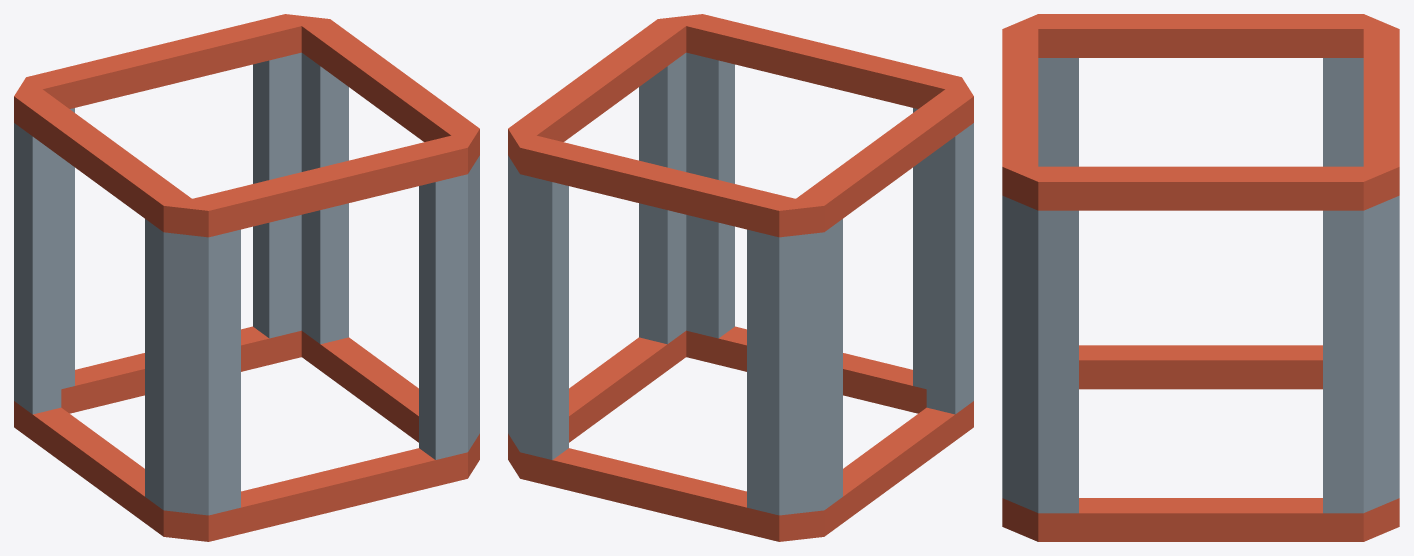
Rendered from metalStructure.fbx.
3 renders of one model, left to right at view 1: azimuth 30°, elevation 25°; view 2: azimuth 150°, elevation 25°; view 3: azimuth 270°, elevation 25°, orthographic. The views are drawn at different scales.
Parts seen in each view (by area): view 1: metalStructure; view 2: metalStructure; view 3: metalStructure.
Boxes of the visible parts, x1,y1,x2,y2 form: metalStructure: (14,14,479,541); metalStructure: (508,14,973,541); metalStructure: (1002,14,1399,541).
Bounding box in the file's own units: 10 × 10 × 10.
